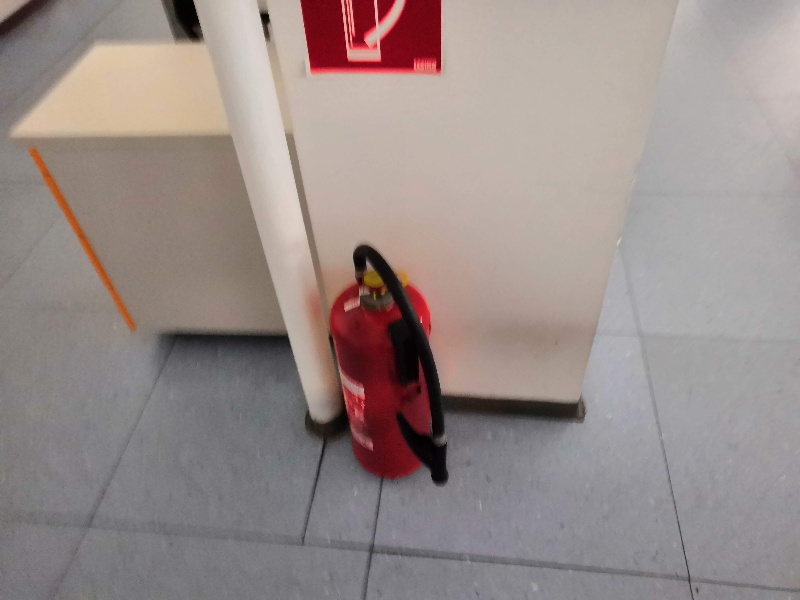vataparat: (327, 244, 450, 487)
